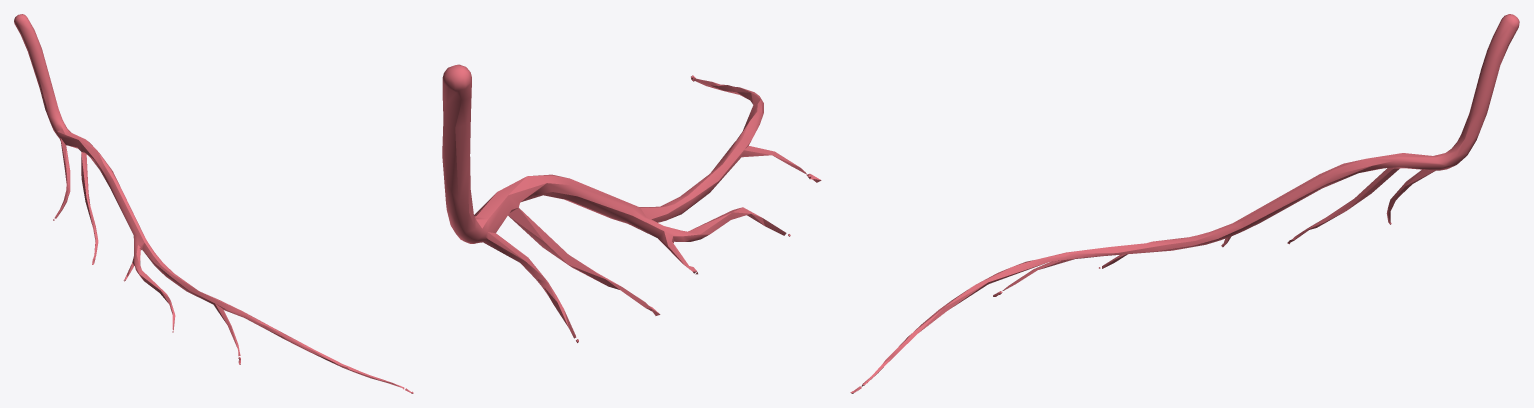
File: fma79572_fj5087.glb
3 views of the same model, side by side, from view 1: azimuth 30°, elevation 25°; view 2: azimuth 150°, elevation 25°; view 3: azimuth 270°, elevation 25° (orthographic). The views are drawn at different scales.
Visible parts, largest first — view 1: FMA79572_FJ5087; view 2: FMA79572_FJ5087; view 3: FMA79572_FJ5087.
Boxes of the visible parts, x1=… form: FMA79572_FJ5087: x1=14, y1=14, x2=413, y2=393; FMA79572_FJ5087: x1=442, y1=64, x2=821, y2=342; FMA79572_FJ5087: x1=850, y1=14, x2=1519, y2=393.
Size of the model in its own units: 0.0139 by 0.0196 by 0.0407.
